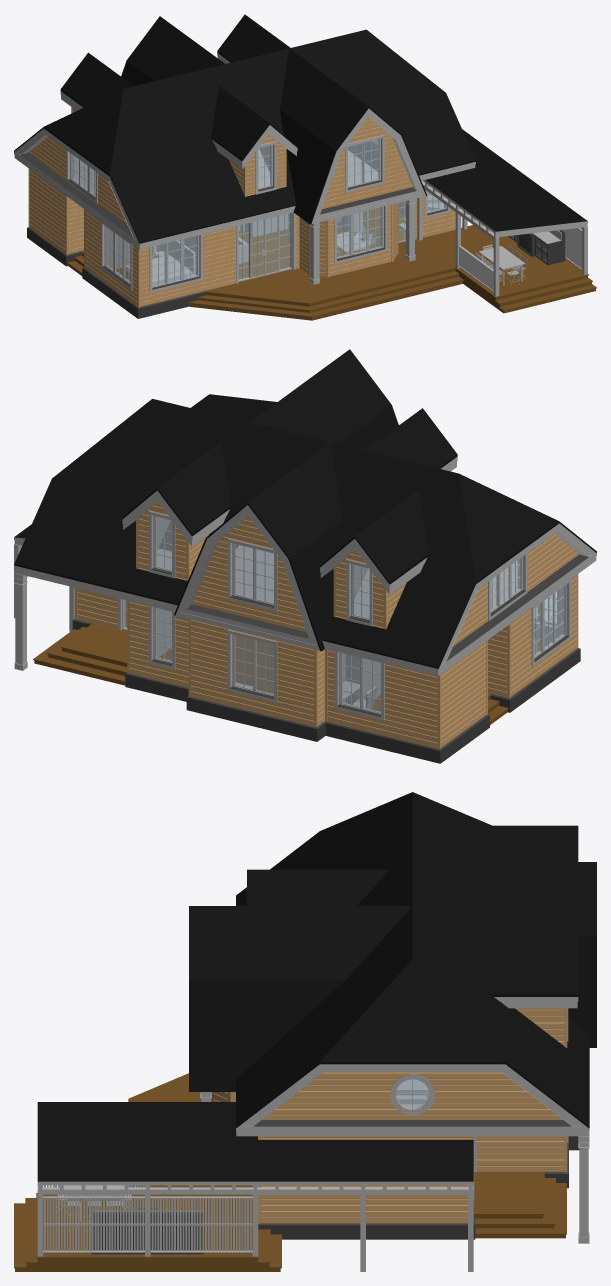
The model's file is house.fbx.
3 renders of one model, top to bottom at view 1: azimuth 30°, elevation 25°; view 2: azimuth 150°, elevation 25°; view 3: azimuth 270°, elevation 25°, orthographic. The views are drawn at different scales.
Visible parts, largest first — view 1: roof, white, floor, siding, glass, gray, siding_corners; view 2: roof, siding, white, gray, glass, floor, siding_corners; view 3: roof, white, siding, floor, gray, glass.
Boxes of the visible parts, x1,y1,x2,y2 form: roof: [14, 14, 587, 243]; white: [14, 53, 587, 296]; floor: [30, 208, 596, 320]; siding: [28, 108, 455, 306]; glass: [72, 139, 444, 285]; gray: [20, 153, 565, 318]; siding_corners: [28, 107, 461, 307]; roof: [14, 349, 596, 668]; siding: [77, 501, 579, 748]; white: [14, 456, 596, 720]; gray: [72, 554, 588, 763]; glass: [125, 517, 563, 712]; floor: [33, 611, 576, 748]; siding_corners: [74, 518, 578, 749]; roof: [37, 792, 596, 1181]; white: [37, 997, 589, 1271]; siding: [213, 1008, 564, 1223]; floor: [14, 1073, 566, 1271]; gray: [91, 1120, 579, 1254]; glass: [396, 1079, 428, 1109].
Size of the model in its own units: 16430 by 7450 by 15580.
